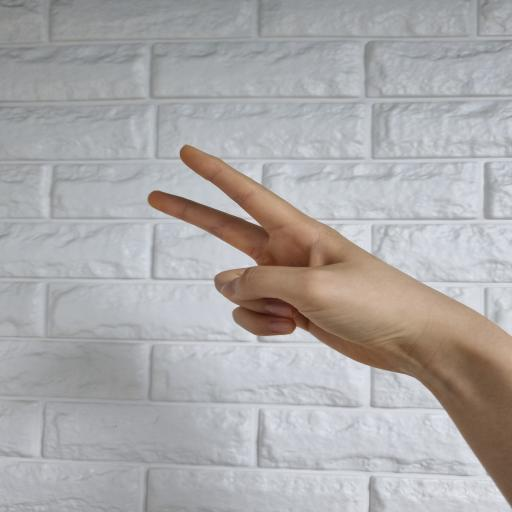Scissors: (148, 145, 444, 378)
